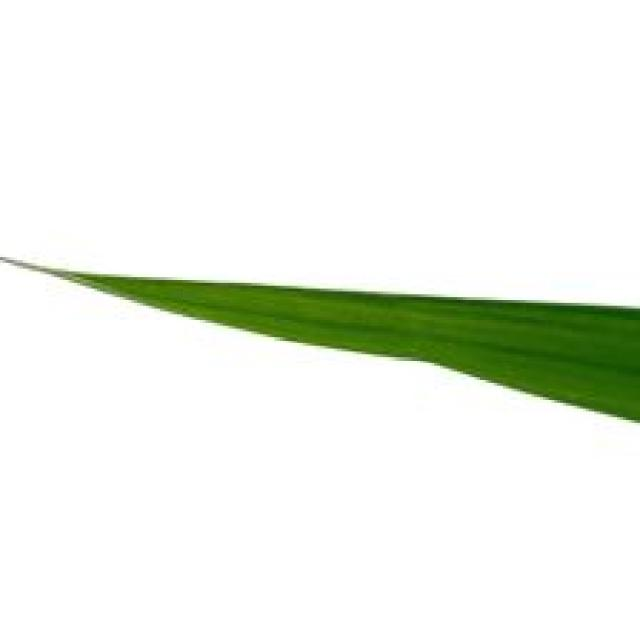Rice___Healthy_Rice_Plant: (3, 256, 637, 423)
